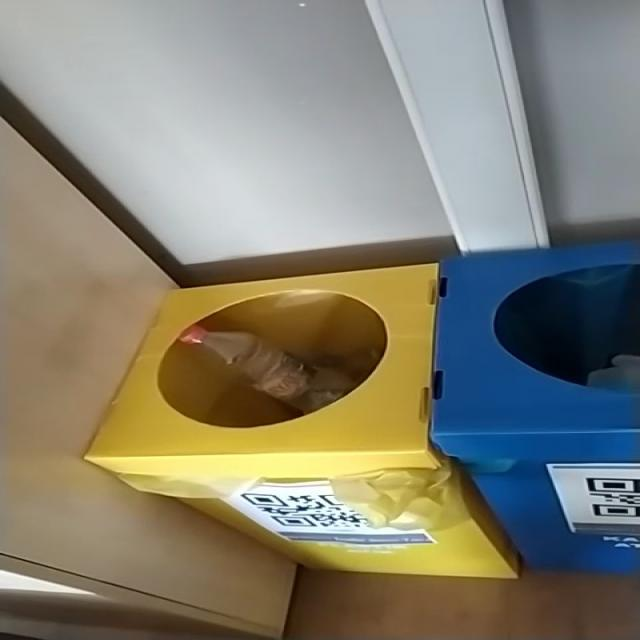plastic: (180, 325, 357, 414)
